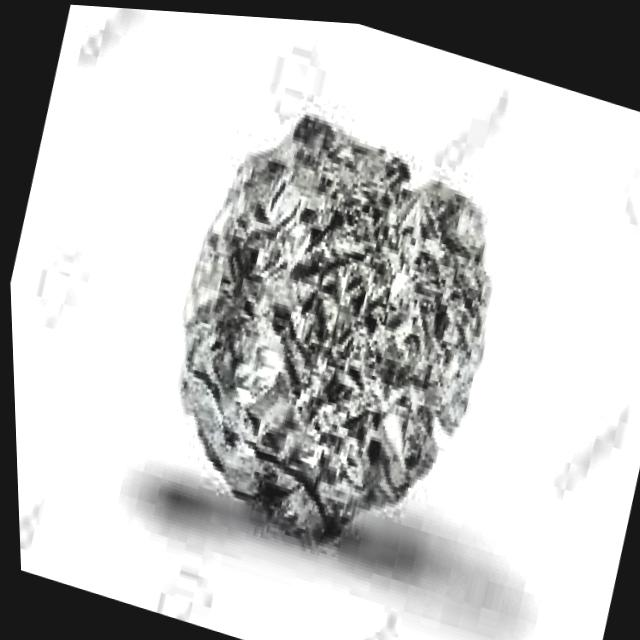Foil: (105, 52, 543, 585)
